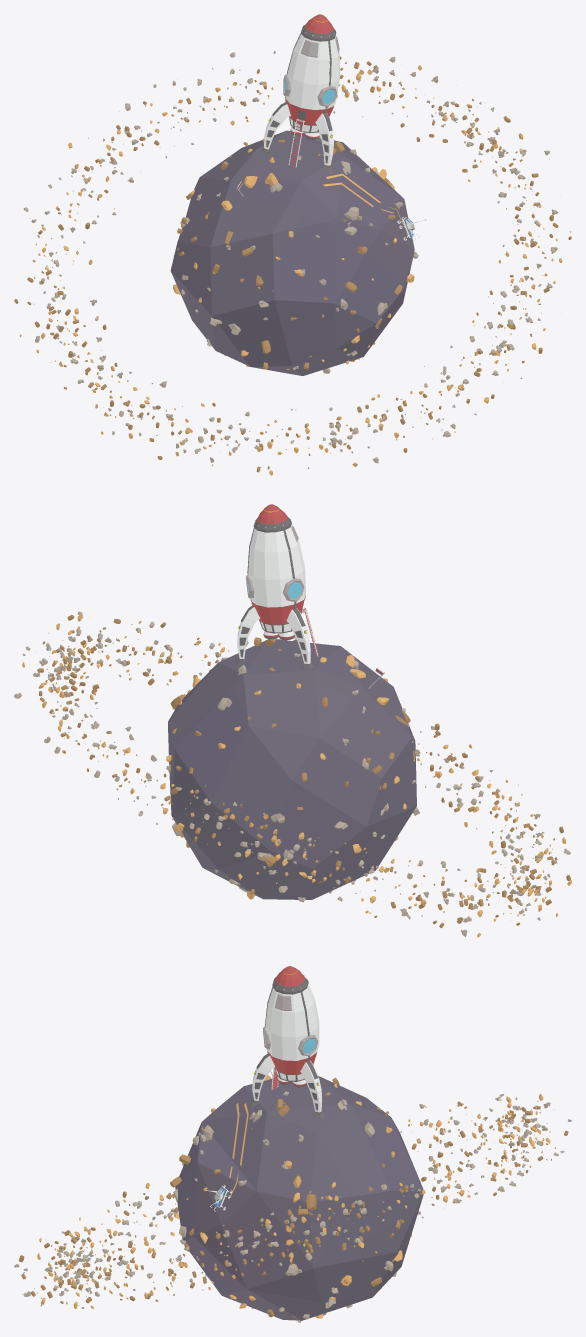
Rendered from rocket-transformed.glb.
3 views of the same model, one above another, from view 1: azimuth 30°, elevation 25°; view 2: azimuth 150°, elevation 25°; view 3: azimuth 270°, elevation 25° (orthographic). The views are drawn at different scales.
Visible parts, largest first — view 1: planet.002, planet.003; view 2: planet.002, planet.003; view 3: planet.002, planet.003.
Part boxes in pixels (x1,y1,x2,y2): planet.002: (15,14,571,475); planet.003: (14,33,570,474); planet.002: (16,504,571,937); planet.003: (14,528,571,927); planet.002: (14,966,569,1322); planet.003: (18,986,571,1308).
Bounding box in the file's own units: 30.55 × 22.9 × 31.63.
Materials: 1 (1 with a texture image).
